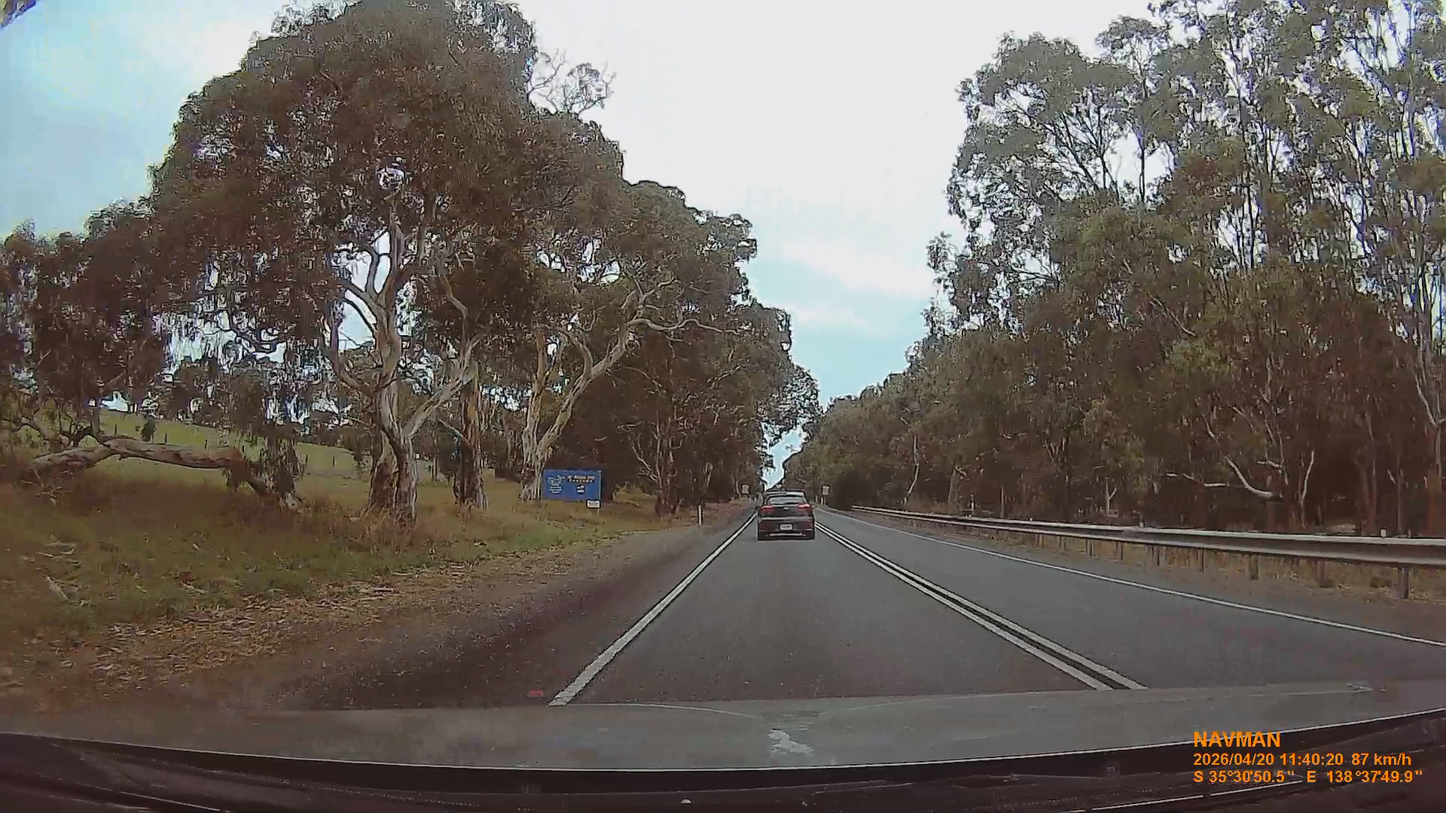road barriers: (871, 510, 1445, 566)
